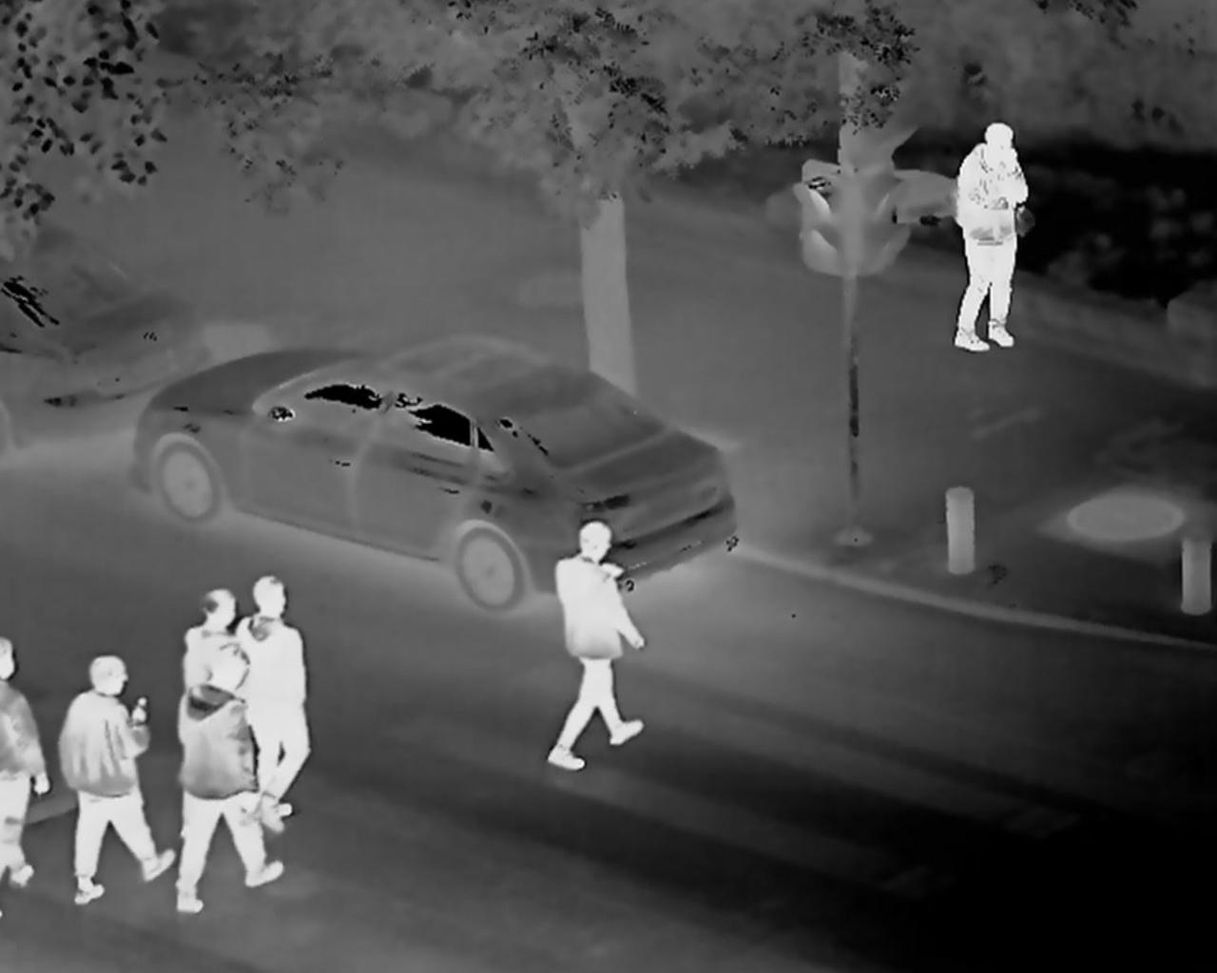person: (176, 636, 299, 924), (50, 617, 163, 910), (538, 524, 648, 777), (242, 569, 321, 807), (956, 123, 1028, 361), (179, 583, 251, 793)
